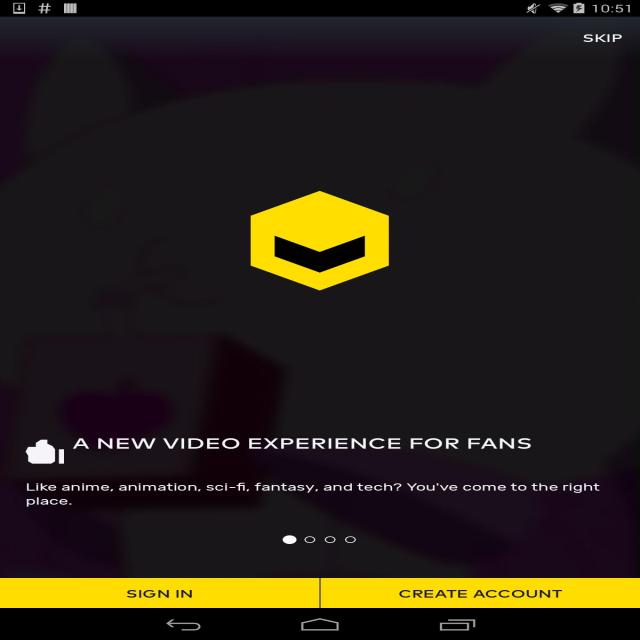button: (1, 579, 321, 609), (322, 580, 640, 607), (561, 18, 640, 56)
heading: (68, 432, 536, 456)
image: (238, 184, 402, 298), (26, 435, 72, 469)
text: (21, 482, 609, 508)
